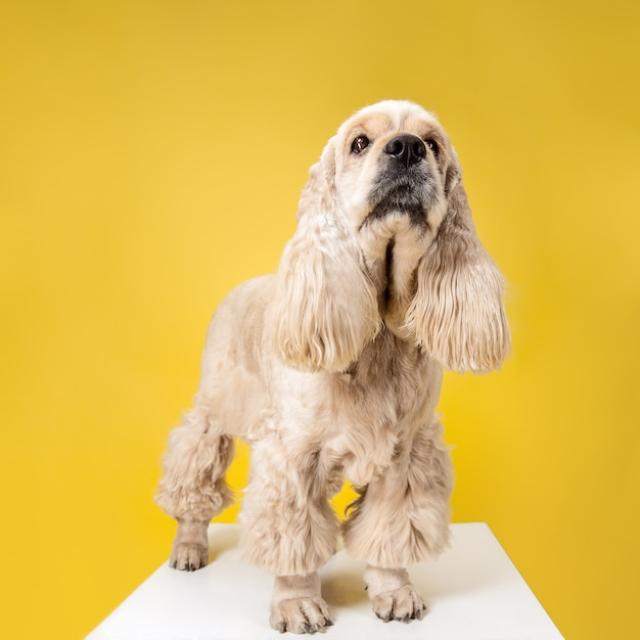Dog: (156, 98, 511, 632)
